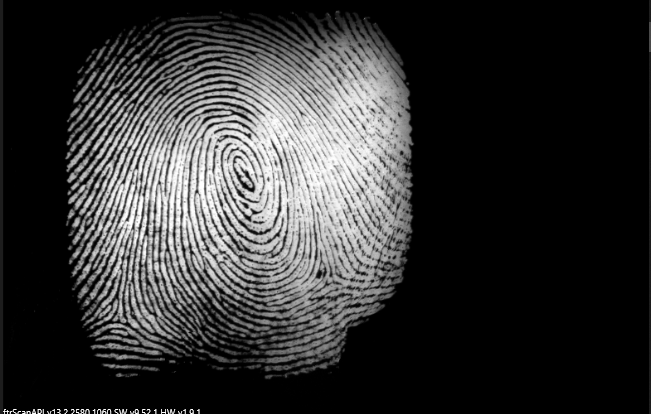nucelo: (226, 146, 258, 196)
verticilo: (315, 262, 347, 286), (107, 303, 134, 327)
